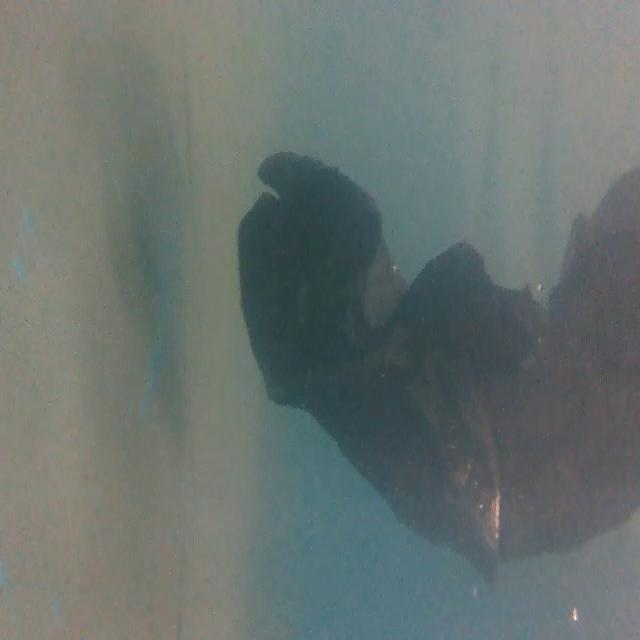plastic bags: (238, 143, 640, 590)
